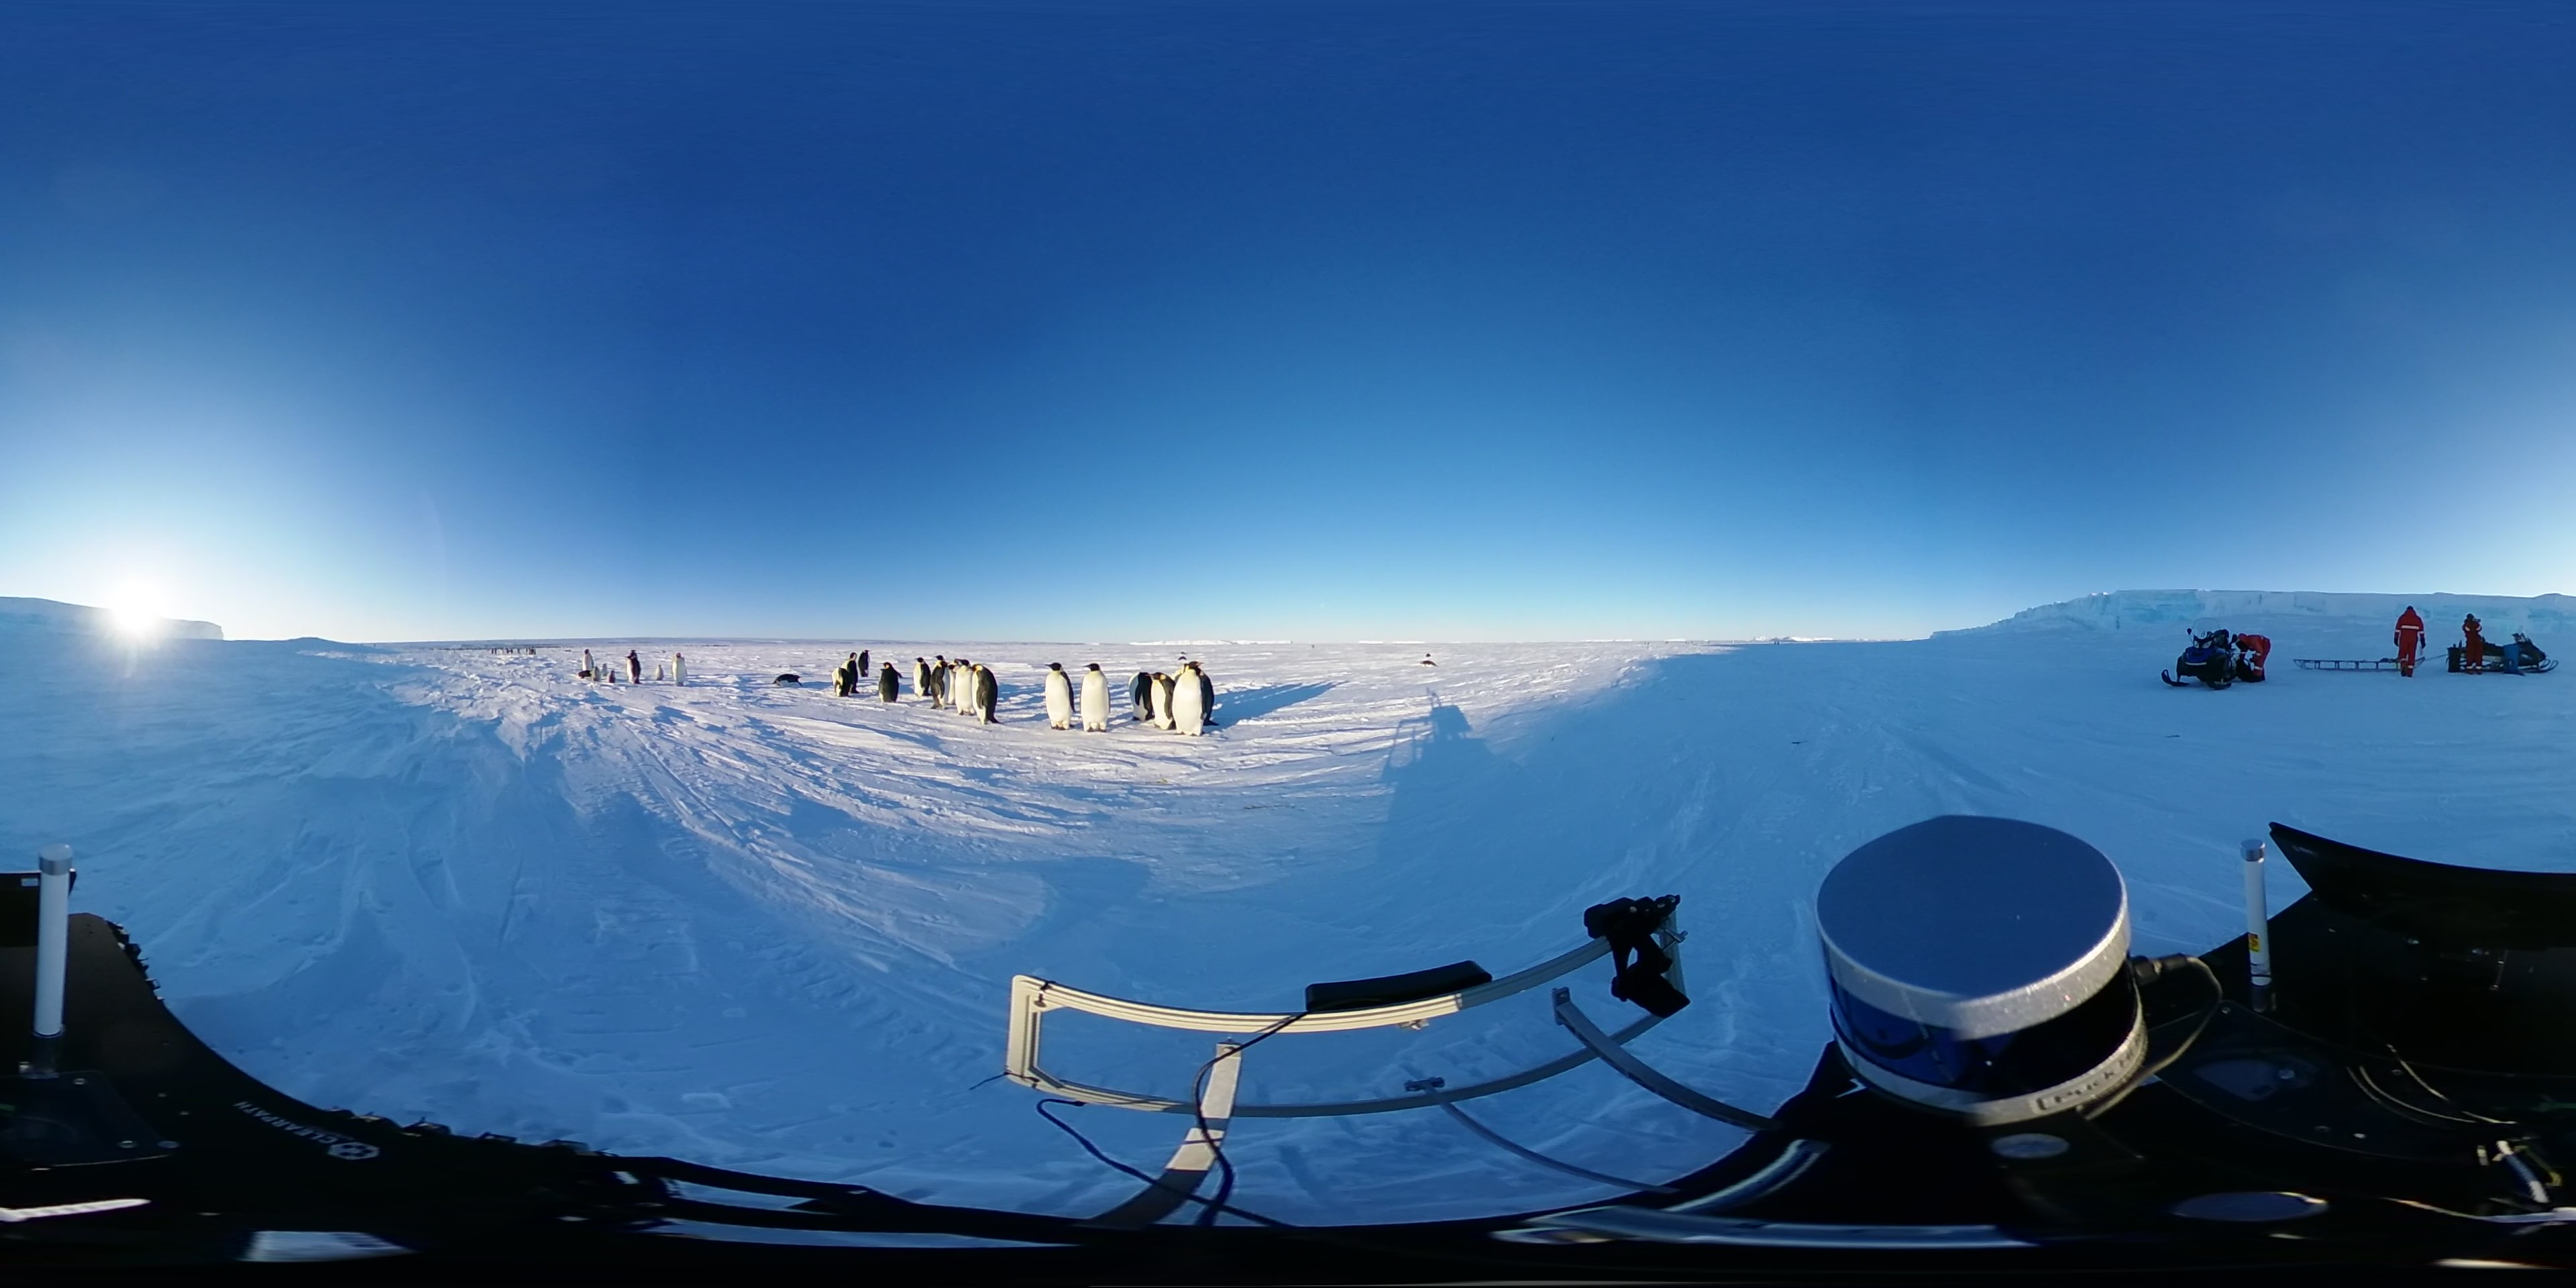adult_standing_penguin: (1170, 659, 1209, 741), (1079, 660, 1114, 734), (1042, 660, 1078, 729), (968, 662, 1005, 728), (1150, 670, 1178, 729), (1127, 669, 1155, 724), (953, 655, 977, 716), (927, 659, 954, 711), (877, 662, 904, 706), (912, 655, 933, 698), (669, 651, 692, 690), (623, 652, 642, 688), (858, 647, 872, 678)
adult_toboggan_penguin: (770, 670, 807, 690), (1418, 659, 1439, 670)
juvenile_penguin: (654, 662, 667, 683)
researcher: (2390, 603, 2428, 680), (2229, 631, 2272, 683), (2459, 613, 2491, 677)
